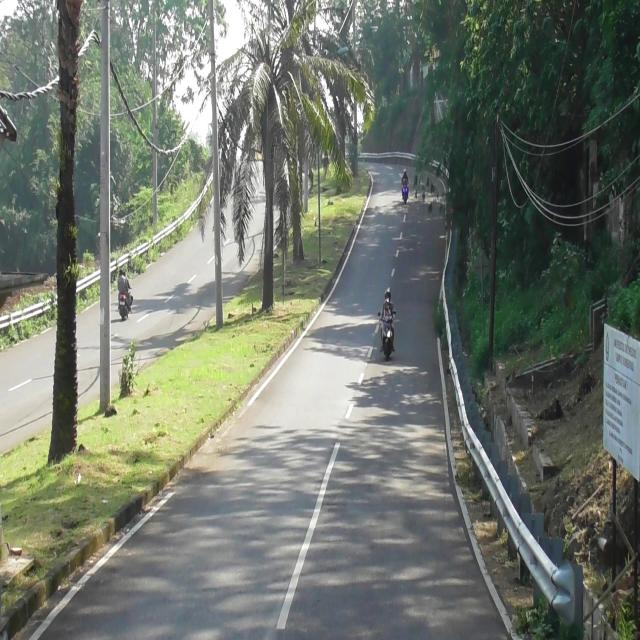motorcycle: (377, 310, 396, 361), (118, 293, 133, 322), (401, 182, 409, 204)
person: (380, 290, 396, 352), (117, 268, 130, 312), (122, 270, 133, 314), (383, 300, 392, 317), (401, 168, 409, 184)
rider_region: (374, 282, 399, 368), (115, 255, 136, 320), (400, 165, 410, 204)
